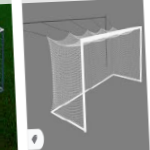goals: (46, 24, 144, 134)
